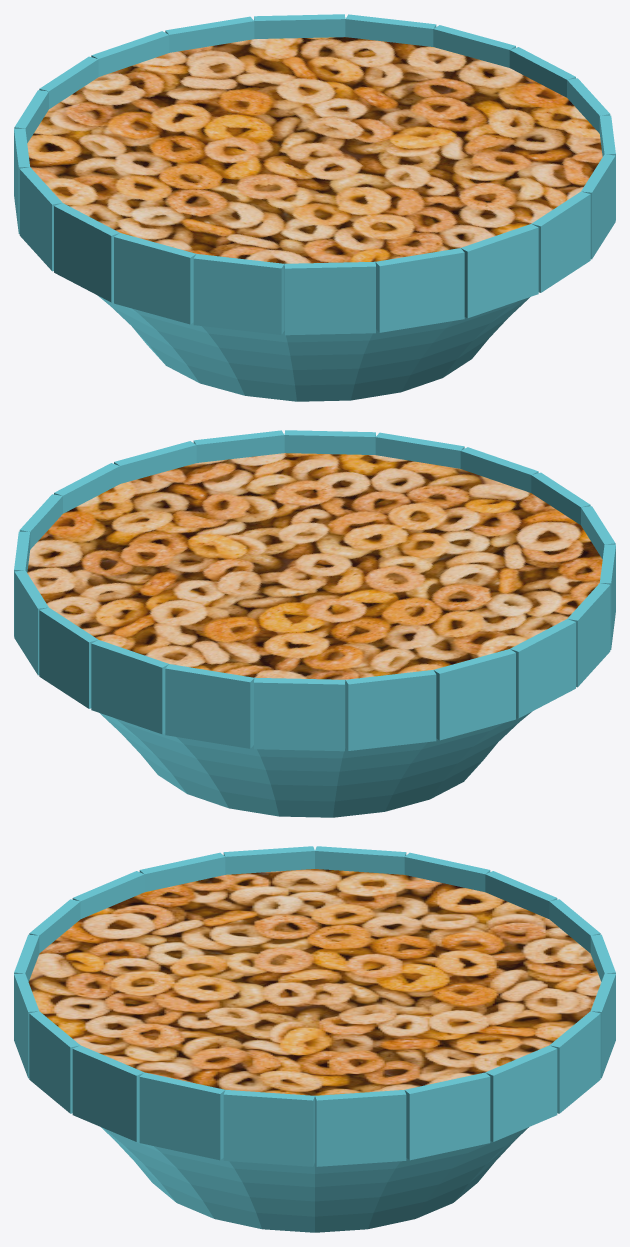
The model's file is cereal 1.fbx.
3 views of the same model, one above another, from view 1: azimuth 30°, elevation 25°; view 2: azimuth 150°, elevation 25°; view 3: azimuth 270°, elevation 25° (orthographic).
Visible parts, largest first — view 1: Cube; view 2: Cube; view 3: Cube.
Boxes of the visible parts, x1=… form: Cube: x1=14, y1=14, x2=615, y2=401; Cube: x1=14, y1=430, x2=615, y2=817; Cube: x1=14, y1=846, x2=615, y2=1232.
Size of the model in its own units: 383 by 131 by 383.
